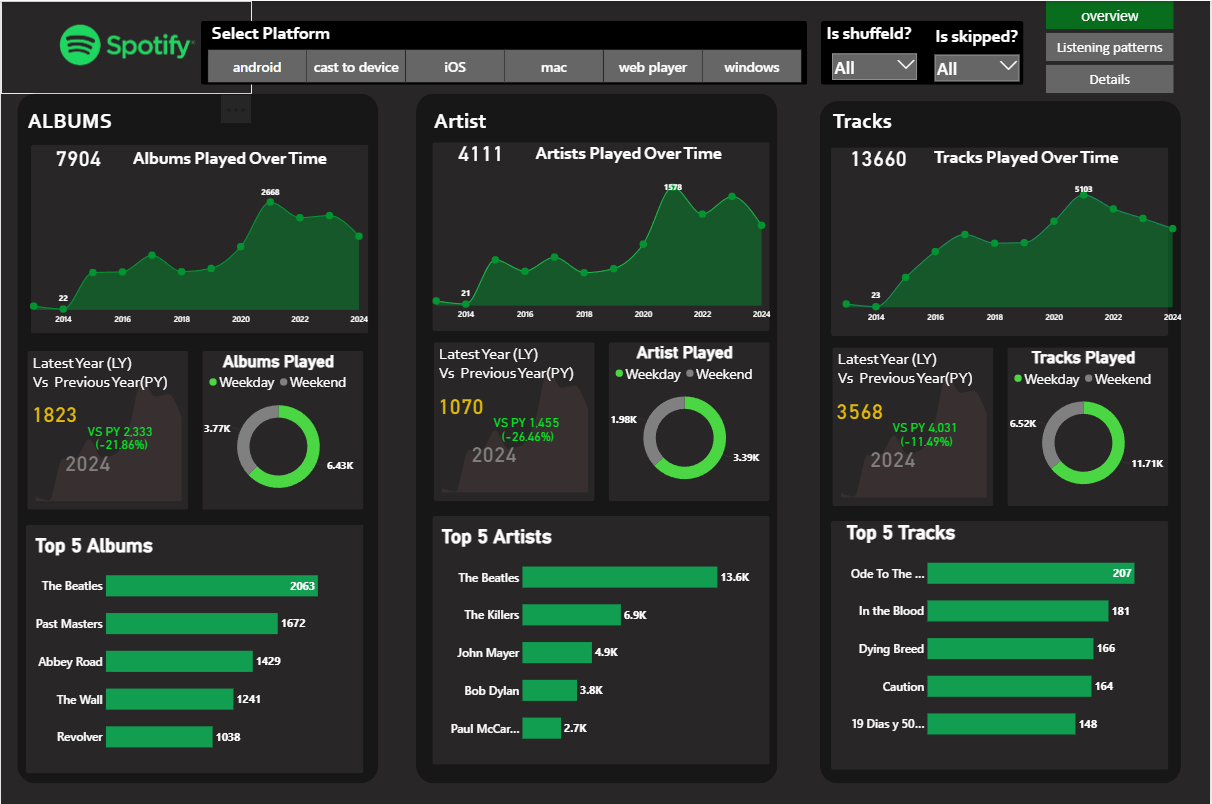

This screenshot's page, from the dashboard's own definition file:
{"tool":"powerbi","page":{"name":"overview","canvas":[3300,2200],"ordinal":0},"visuals":[{"type":"image","box":[0,0,687.4,251.2],"z":0},{"type":"shape","box":[44.4,252.5,986,1883.4],"z":1000},{"type":"textbox","box":[68.2,285.5,300.2,112.6],"z":2000},{"type":"shape","box":[81.9,392.4,921.2,515.2],"z":3000},{"type":"card","fields":{"Values":["spotify_history.Total Albums"]},"box":[81.9,371.9,259.3,102.4],"z":4000},{"type":"textbox","box":[354.8,395.8,586.9,109.2],"z":5000},{"type":"areaChart","fields":{"Category":["Date Table.Year"],"Y":["spotify_history.Total Albums"]},"box":[61.4,498.1,945.1,395.8],"z":6000},{"type":"shape","box":[71.7,955.3,440.1,433.3],"z":7000},{"type":"areaChart","fields":{"Category":["Date Table.Year"],"Y":["spotify_history.Total Albums"]},"box":[44.4,975.8,464,395.8],"z":8000},{"type":"card","fields":{"Values":["spotify_history.Latest Year Album"]},"box":[17.1,1071.3,259.3,102.4],"z":9000},{"type":"textbox","box":[81.9,955.3,426.5,143.3],"z":10000},{"type":"card","fields":{"Values":["spotify_history.PY & YOY"]},"box":[153.5,1139.6,351.4,102.4],"z":11000},{"type":"card","fields":{"Values":["spotify_history.latest year"]},"box":[105.8,1204.4,262.7,102.4],"z":12000},{"type":"shape","box":[549.3,955.3,440.1,433.3],"z":13000},{"type":"donutChart","title":"Albums Played","fields":{"Y":["Count(spotify_history.album_name)"],"Category":["Date Table.week_end/day"]},"box":[511.8,955.3,491.3,416.3],"z":14000},{"type":"shape","box":[68.2,1429.6,921.2,679],"z":15000},{"type":"barChart","title":"Top 5 Albums","fields":{"Category":["spotify_history.album_name"],"Y":["CountNonNull(spotify_history.album_name)"]},"box":[88.7,1453.5,853,634.6],"z":16000},{"type":"shape","box":[1132.8,252.5,986,1883.4],"z":17000},{"type":"shape","box":[2234.8,273,986,1862.9],"z":18000},{"type":"textbox","box":[1175.7,285.5,300.2,112.6],"z":19000},{"type":"shape","box":[1177.1,385.5,921.2,515.2],"z":20000},{"type":"card","fields":{"Values":["spotify_history.Total Artist"]},"box":[1180.4,356.7,259.3,102.4],"z":21000},{"type":"textbox","box":[1453.3,380.6,586.9,109.2],"z":22000},{"type":"areaChart","fields":{"Category":["Date Table.Year"],"Y":["spotify_history.Total Artist"]},"box":[1159.9,483,945.1,395.8],"z":23000},{"type":"shape","box":[1179.1,932,440.1,433.3],"z":24000},{"type":"areaChart","fields":{"Category":["Date Table.Year"],"Y":["spotify_history.Total Albums"]},"box":[1151.8,952.5,464,395.8],"z":25000},{"type":"card","fields":{"Values":["spotify_history.last year artist"]},"box":[1124.5,1048,259.3,102.4],"z":26000},{"type":"textbox","box":[1189.3,932,426.5,143.3],"z":27000},{"type":"card","fields":{"Values":["spotify_history.artit PY & YOY"]},"box":[1261,1116.2,351.4,102.4],"z":28000},{"type":"card","fields":{"Values":["spotify_history.latest year"]},"box":[1213.2,1181.1,262.7,102.4],"z":29000},{"type":"shape","box":[1656.7,932,440.1,433.3],"z":30000},{"type":"donutChart","title":"Artist Played","fields":{"Y":["Count(spotify_history.artist_name)"],"Category":["Date Table.week_end/day"]},"box":[1619.2,932,491.3,416.3],"z":31000},{"type":"shape","box":[1175.7,1406.2,921.2,679],"z":32000},{"type":"barChart","title":"Top 5 Artists","fields":{"Category":["spotify_history.artist_name"],"Y":["CountNonNull(spotify_history.artist_name)"]},"box":[1196.1,1430.1,853,634.6],"z":33000},{"type":"textbox","box":[2263.8,285.5,300.2,112.6],"z":34000},{"type":"shape","box":[2265.3,398.3,921.2,515.2],"z":35000},{"type":"textbox","box":[2541.5,393.4,586.9,109.2],"z":36000},{"type":"areaChart","fields":{"Category":["Date Table.Year"],"Y":["spotify_history.Total Tracks"]},"box":[2278.3,491.7,948.1,396.2],"z":37000},{"type":"shape","box":[2267.2,944.7,440.1,433.3],"z":38000},{"type":"areaChart","fields":{"Category":["Date Table.Year"],"Y":["spotify_history.Total Albums"]},"box":[2239.9,965.2,464,395.8],"z":39000},{"type":"card","fields":{"Values":["spotify_history.Latest Year track"]},"box":[2212.6,1060.7,259.3,102.4],"z":40000},{"type":"textbox","box":[2277.5,944.7,426.5,143.3],"z":41000},{"type":"card","fields":{"Values":["spotify_history.track PY & YOY"]},"box":[2349.1,1129,351.4,102.4],"z":42000},{"type":"card","fields":{"Values":["spotify_history.latest year"]},"box":[2301.4,1193.8,262.7,102.4],"z":43000},{"type":"shape","box":[2744.9,944.7,440.1,433.3],"z":44000},{"type":"donutChart","title":"Tracks Played","fields":{"Y":["Count(spotify_history.track_name)"],"Category":["Date Table.week_end/day"]},"box":[2707.4,944.7,491.3,416.3],"z":45000},{"type":"shape","box":[2263.8,1419,921.2,679],"z":46000},{"type":"card","fields":{"Values":["spotify_history.Total Tracks"]},"box":[2265.5,371.9,259.3,102.4],"z":47000},{"type":"barChart","title":"Top 5 Tracks","fields":{"Category":["spotify_history.track_name"],"Y":["CountNonNull(spotify_history.track_name)"]},"box":[2303.1,1418.6,852.6,633.3],"z":48000},{"type":"shape","box":[545.9,54.6,1654.8,174],"z":49000},{"type":"slicer","fields":{"Values":["spotify_history.platform"]},"box":[539.1,126.2,1668.4,102.4],"z":50000},{"type":"textbox","box":[569.8,54.6,586.9,75.1],"z":51000},{"type":"shape","box":[2238.2,54.6,552.7,174],"z":52000},{"type":"textbox","box":[2248.5,54.6,266.1,75.1],"z":53000},{"type":"slicer","fields":{"Values":["spotify_history.shuffle"]},"box":[2258.7,133.1,251,85],"z":54000},{"type":"slicer","fields":{"Values":["spotify_history.skipped"]},"box":[2538.5,136.5,251,85],"z":55000},{"type":"textbox","box":[2545.3,61.4,266.1,75.1],"z":56000},{"type":"pageNavigator","box":[2852.4,0,348,252.5],"z":57000}]}

Visuals, with their boxes in screenshot pixels (x1, y1, x2, y2), scaled from the page's 3300x2200 canvas onto the 1212x804 screenshot:
image: Rect(0, 0, 252, 92)
shape: Rect(16, 92, 378, 781)
textbox: Rect(25, 104, 135, 145)
shape: Rect(30, 143, 368, 332)
card - spotify_history.Total Albums: Rect(30, 136, 125, 173)
textbox: Rect(130, 145, 346, 185)
areaChart - Date Table.Year x spotify_history.Total Albums: Rect(23, 182, 370, 327)
shape: Rect(26, 349, 188, 507)
areaChart - Date Table.Year x spotify_history.Total Albums: Rect(16, 357, 187, 501)
card - spotify_history.Latest Year Album: Rect(6, 392, 102, 429)
textbox: Rect(30, 349, 187, 401)
card - spotify_history.PY & YOY: Rect(56, 416, 185, 454)
card - spotify_history.latest year: Rect(39, 440, 135, 478)
shape: Rect(202, 349, 363, 507)
"Albums Played" donutChart: Rect(188, 349, 368, 501)
shape: Rect(25, 522, 363, 771)
"Top 5 Albums" barChart: Rect(33, 531, 346, 763)
shape: Rect(416, 92, 778, 781)
shape: Rect(821, 100, 1183, 781)
textbox: Rect(432, 104, 542, 145)
shape: Rect(432, 141, 771, 329)
card - spotify_history.Total Artist: Rect(434, 130, 529, 168)
textbox: Rect(534, 139, 749, 179)
areaChart - Date Table.Year x spotify_history.Total Artist: Rect(426, 177, 773, 321)
shape: Rect(433, 341, 595, 499)
areaChart - Date Table.Year x spotify_history.Total Albums: Rect(423, 348, 593, 493)
card - spotify_history.last year artist: Rect(413, 383, 508, 420)
textbox: Rect(437, 341, 593, 393)
card - spotify_history.artit PY & YOY: Rect(463, 408, 592, 445)
card - spotify_history.latest year: Rect(446, 432, 542, 469)
shape: Rect(608, 341, 770, 499)
"Artist Played" donutChart: Rect(595, 341, 775, 493)
shape: Rect(432, 514, 770, 762)
"Top 5 Artists" barChart: Rect(439, 523, 753, 755)
textbox: Rect(831, 104, 942, 145)
shape: Rect(832, 146, 1170, 334)
textbox: Rect(933, 144, 1149, 184)
areaChart - Date Table.Year x spotify_history.Total Tracks: Rect(837, 180, 1185, 324)
shape: Rect(833, 345, 994, 504)
areaChart - Date Table.Year x spotify_history.Total Albums: Rect(823, 353, 993, 497)
card - spotify_history.Latest Year track: Rect(813, 388, 908, 425)
textbox: Rect(836, 345, 993, 398)
card - spotify_history.track PY & YOY: Rect(863, 413, 992, 450)
card - spotify_history.latest year: Rect(845, 436, 942, 474)
shape: Rect(1008, 345, 1170, 504)
"Tracks Played" donutChart: Rect(994, 345, 1175, 497)
shape: Rect(831, 519, 1170, 767)
card - spotify_history.Total Tracks: Rect(832, 136, 927, 173)
"Top 5 Tracks" barChart: Rect(846, 518, 1159, 750)
shape: Rect(200, 20, 808, 84)
slicer - spotify_history.platform: Rect(198, 46, 811, 84)
textbox: Rect(209, 20, 425, 47)
shape: Rect(822, 20, 1025, 84)
textbox: Rect(826, 20, 924, 47)
slicer - spotify_history.shuffle: Rect(830, 49, 922, 80)
slicer - spotify_history.skipped: Rect(932, 50, 1025, 81)
textbox: Rect(935, 22, 1033, 50)
pageNavigator: Rect(1048, 0, 1175, 92)
